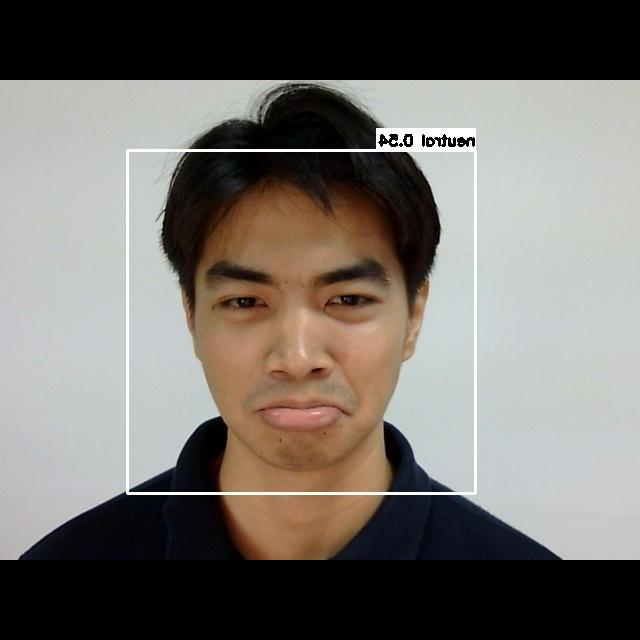Sad: (179, 237, 422, 459)
